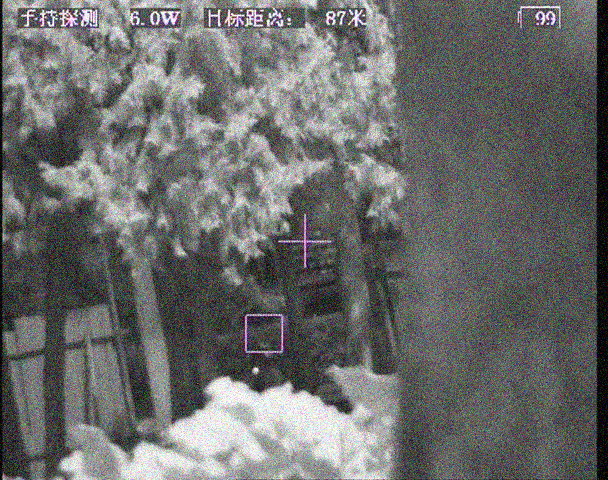my: (251, 366, 261, 376)
